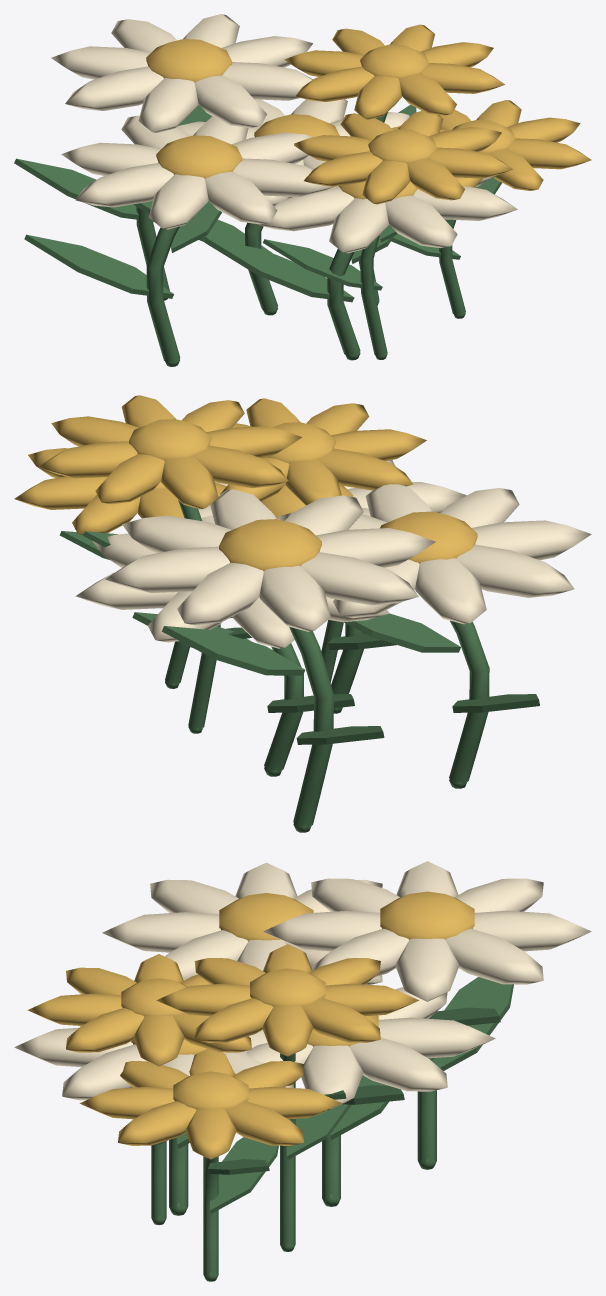
The model's file is almanac-gardens-wildflower-meadow-84ae9752__22048.glb.
3 renders of one model, top to bottom at view 1: azimuth 30°, elevation 25°; view 2: azimuth 150°, elevation 25°; view 3: azimuth 270°, elevation 25°, orthographic. The views are drawn at different scales.
Visible parts, largest first — view 1: wildflower-meadow-ivory, wildflower-meadow-gold, wildflower-meadow-leaf; view 2: wildflower-meadow-ivory, wildflower-meadow-gold, wildflower-meadow-leaf; view 3: wildflower-meadow-gold, wildflower-meadow-ivory, wildflower-meadow-leaf.
Boxes of the visible parts, <box> form: wildflower-meadow-ivory: <box>51,14,517,253</box>; wildflower-meadow-gold: <box>146,24,591,204</box>; wildflower-meadow-leaf: <box>14,104,501,366</box>; wildflower-meadow-ivory: <box>75,460,591,648</box>; wildflower-meadow-gold: <box>14,395,477,571</box>; wildflower-meadow-leaf: <box>59,500,539,832</box>; wildflower-meadow-gold: <box>27,891,474,1159</box>; wildflower-meadow-ivory: <box>14,861,591,1108</box>; wildflower-meadow-leaf: <box>151,977,513,1281</box>.
Size of the model in its own units: 0.8127 by 0.3992 by 0.72.
